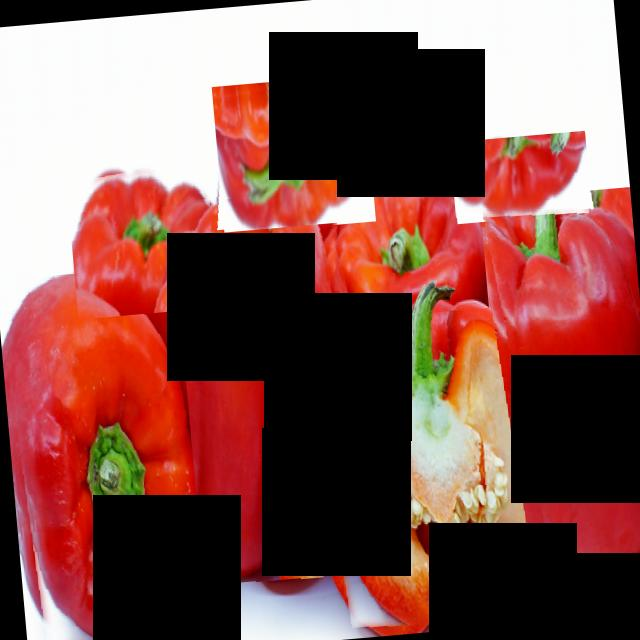pepper: (156, 168, 374, 588), (296, 274, 545, 640), (0, 264, 208, 640), (478, 186, 640, 588), (328, 160, 490, 321), (64, 158, 224, 320), (212, 73, 374, 232), (449, 130, 592, 224)
